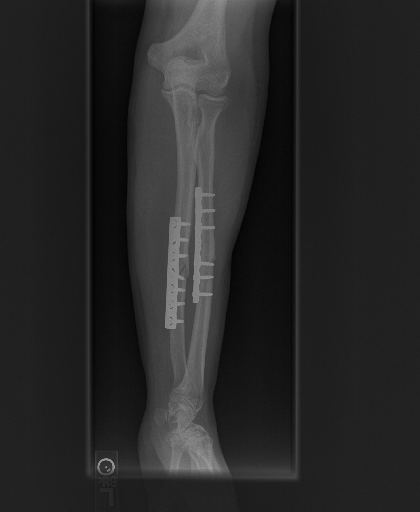implant: (193, 184, 214, 304), (166, 214, 186, 328)
